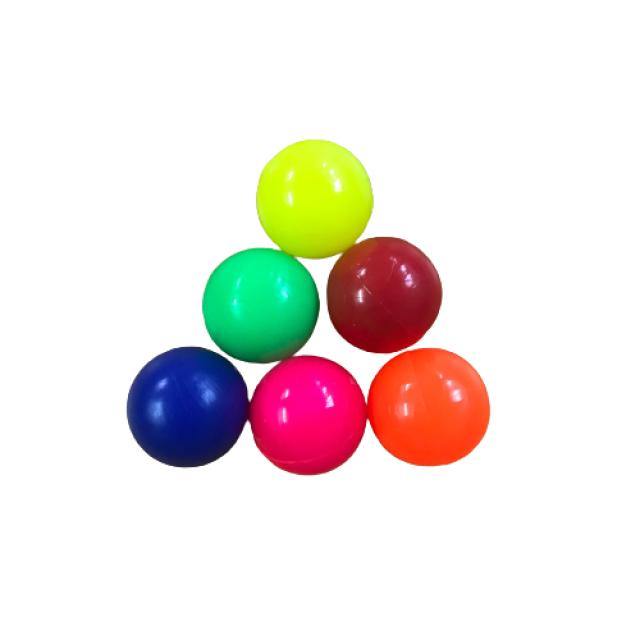hatball: (121, 345, 248, 470), (246, 354, 370, 477), (364, 350, 491, 470), (251, 139, 378, 257), (324, 233, 445, 356), (205, 250, 318, 362)
